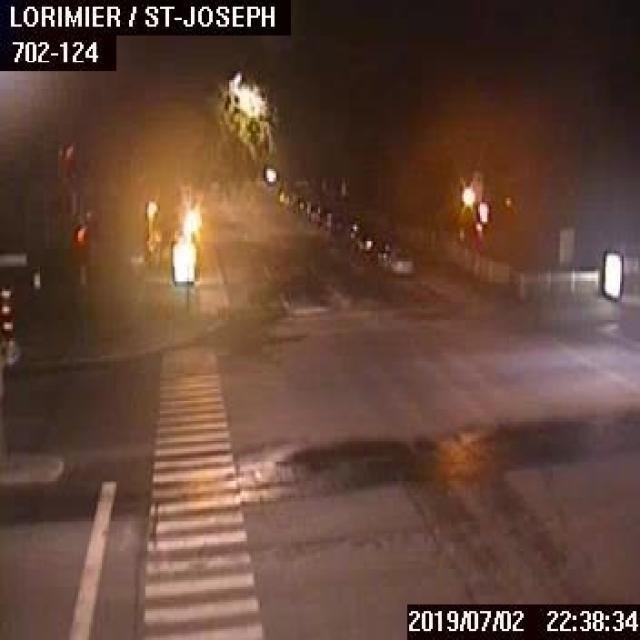vehicle: (377, 241, 414, 273)
